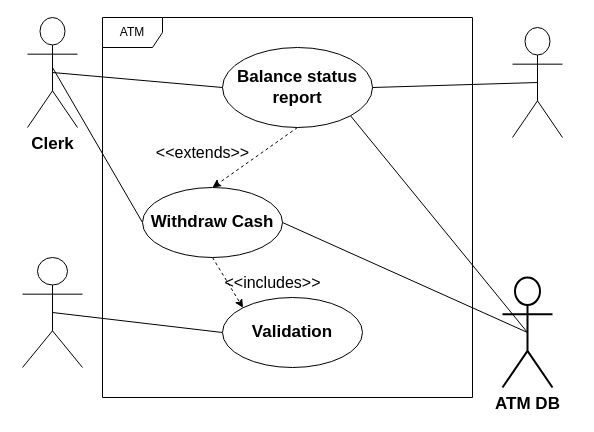
This 594x432 diagram has some shape labels left out. Here are the shapes that lost their labels. From the top down, the box of each, then its label:
(512, 26, 562, 138): Customer
(22, 256, 82, 368): Manager
